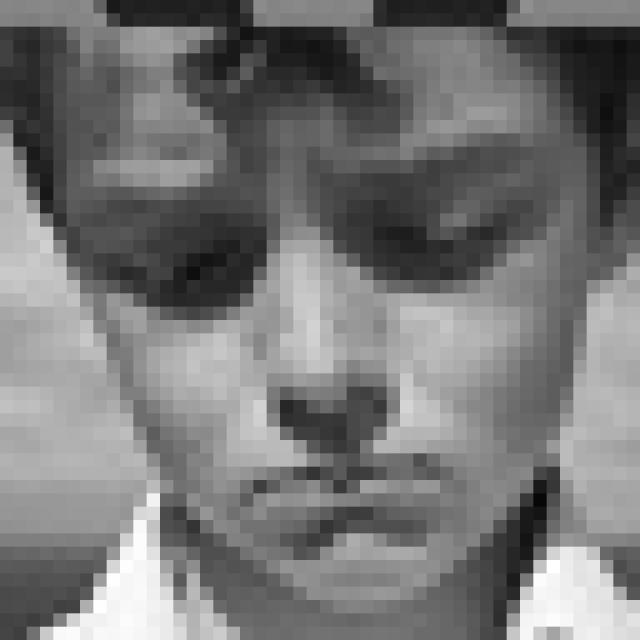sad: (103, 136, 559, 568)
